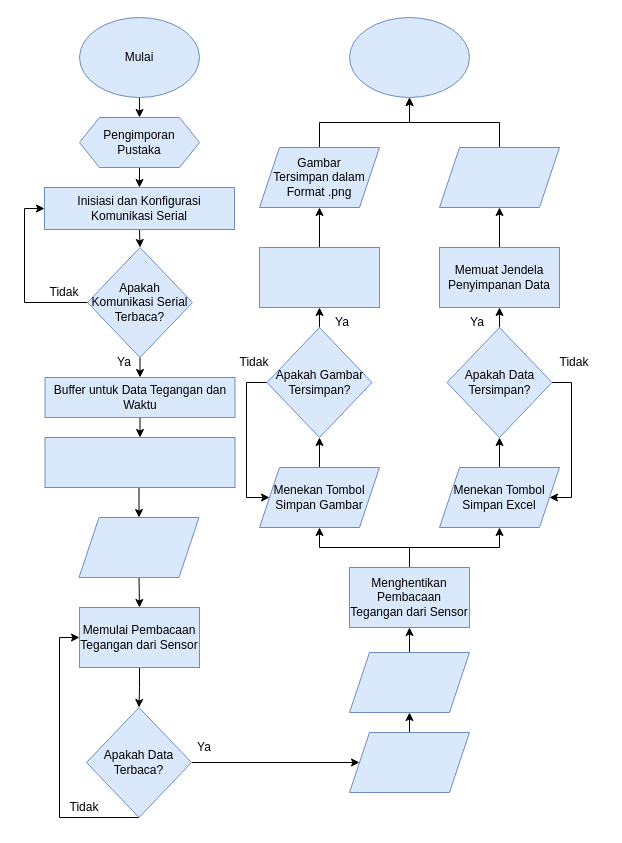
Some shapes in this 622 by 843 pixel diagram are drawn without their labels. The shapes that lost their labels are listed below. From the top down, each one's centre as x and y in pixels, then its label:
point (409, 57): Selesai
point (499, 177): Data Tersimpan dalam Format .xlsx
point (319, 277): Memuat Jendela Penyimpanan Gambar
point (139, 462): Memuat GUI dengan Tombol Interaktif Mulai, Berhenti, Simpan Gambar dan Excel
point (138, 547): Menekan Tombol Mulai
point (409, 682): Menekan Tombol Berhenti
point (409, 762): Tegangan Ditulis dan Diplotting Realtime
